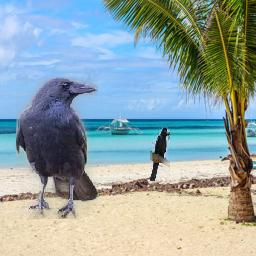Crow: (16, 77, 98, 219), (150, 127, 170, 181)
